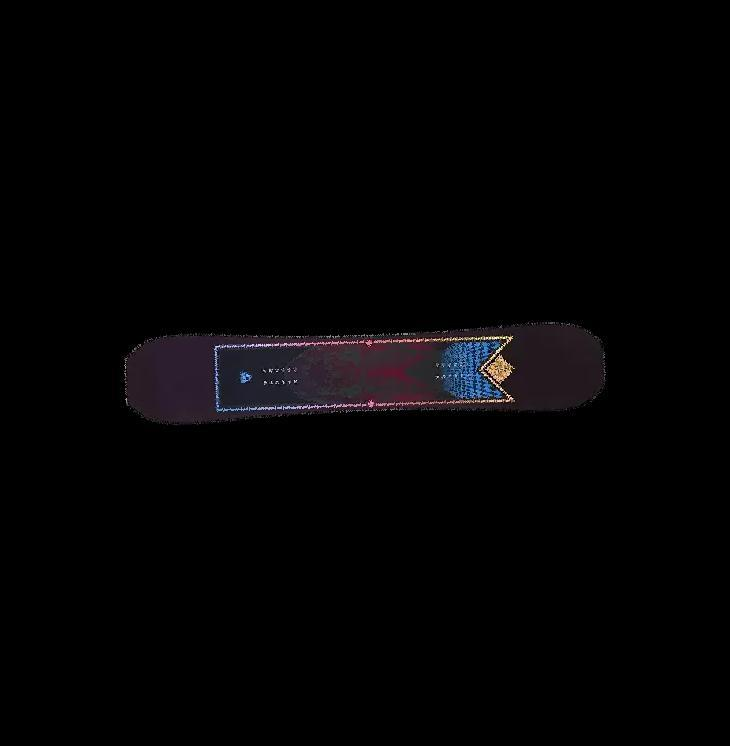Snowboard: (111, 320, 618, 434)
